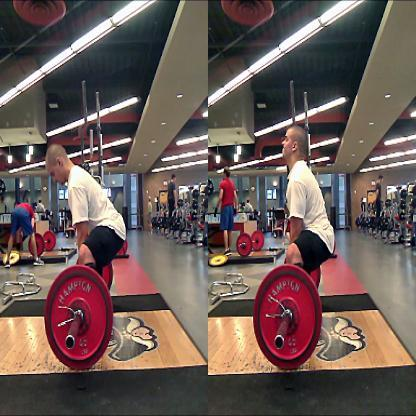Barbell: (275, 335, 287, 351), (65, 335, 76, 351), (240, 244, 243, 250)
